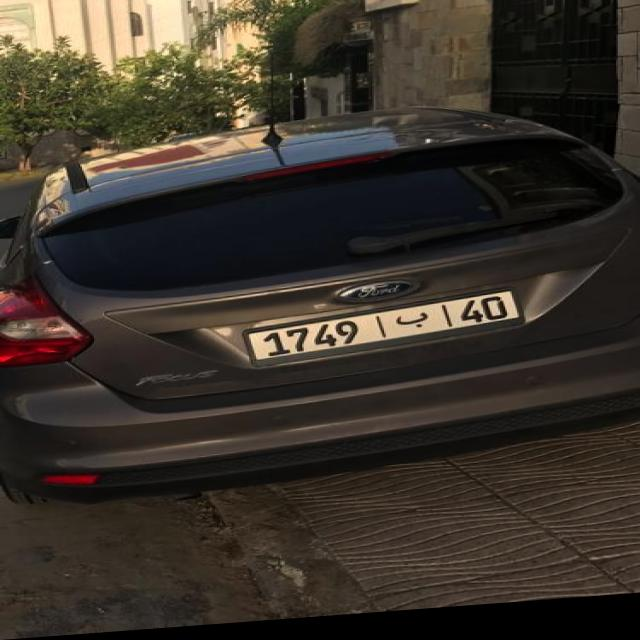License-Plate: (252, 300, 519, 364)
